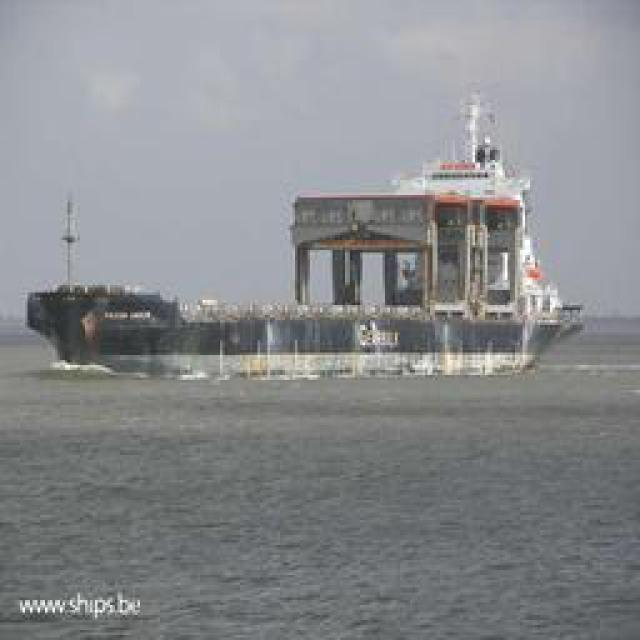Ship: (20, 90, 586, 387)
